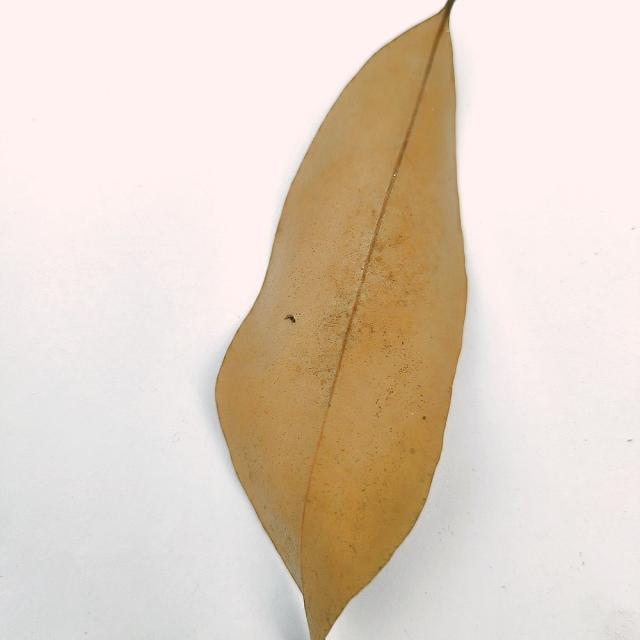Dry_Leaf-Lychee: (214, 0, 469, 639)
